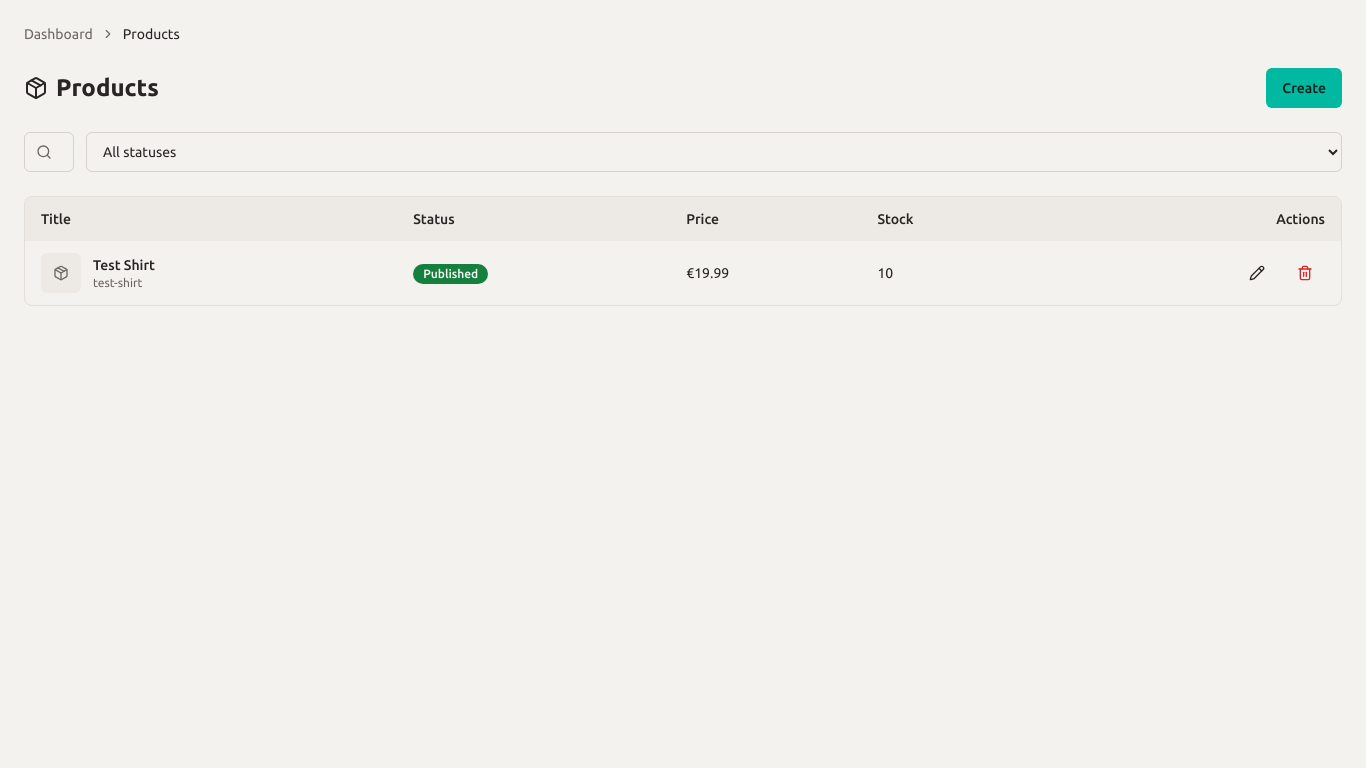
ProductsPage › Q4: surfaces a delete error to the user instead of swallowing it
Check: the text "Test Shirt" is shown, box [93,255,155,275]
Click the button named "Delete" at (1305, 273), box [1285,257,1325,289]
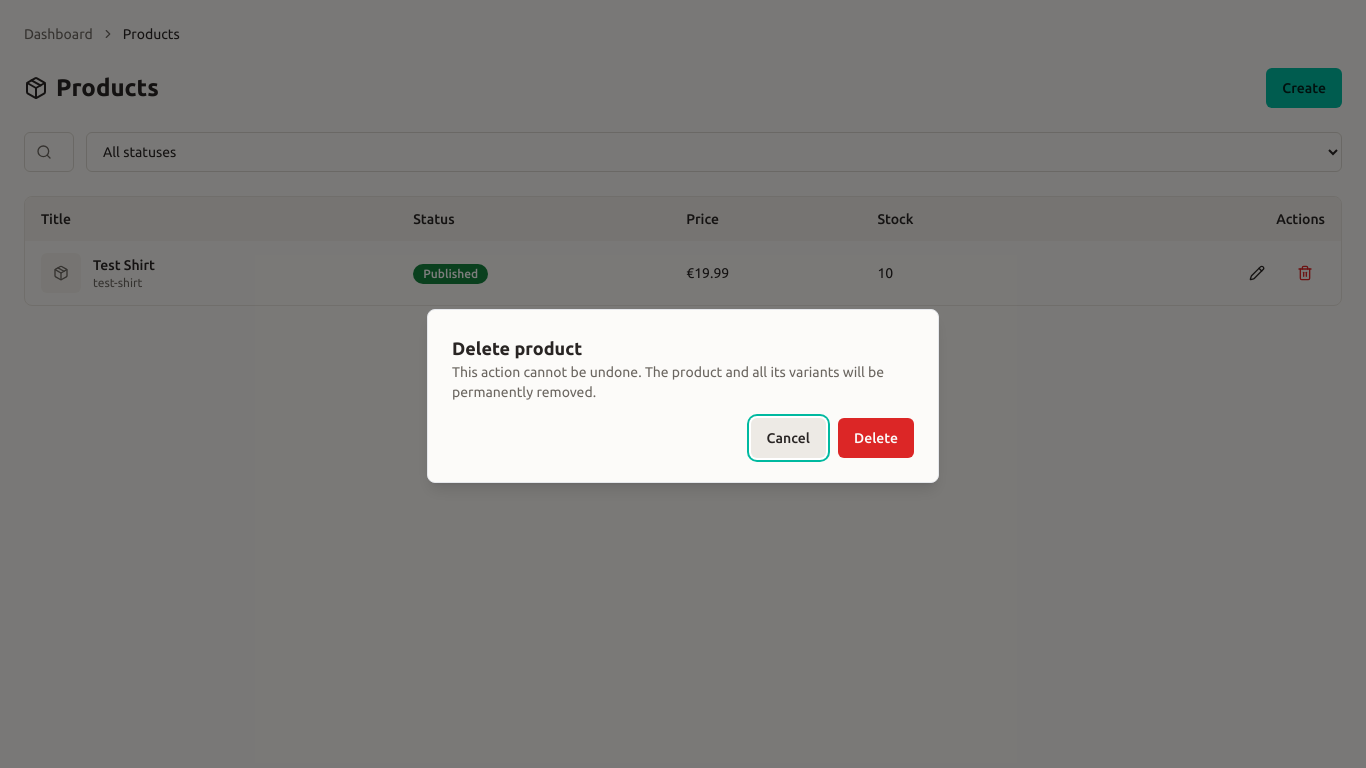
Check: the dialog is shown, box [427,309,939,483]
Confirm the delete — click the destructive "Delete" button inside the dialog
Click the button "Delete" at (876, 438), box [838,418,914,458]
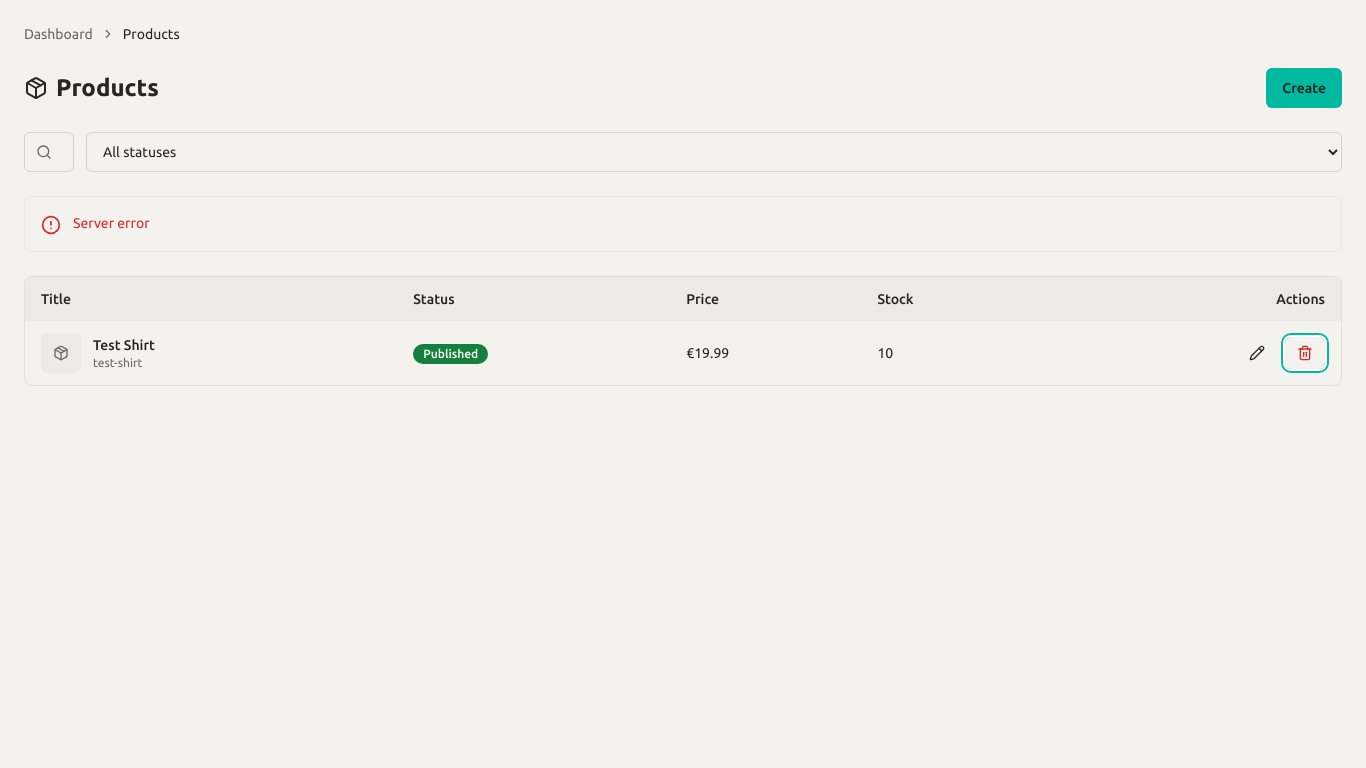
Check: the message "Server error" is shown, box [24,196,1342,252]
